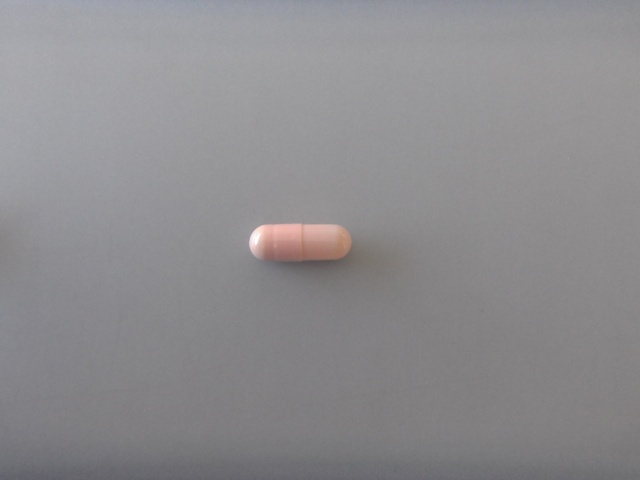capsule: (245, 220, 355, 268)
